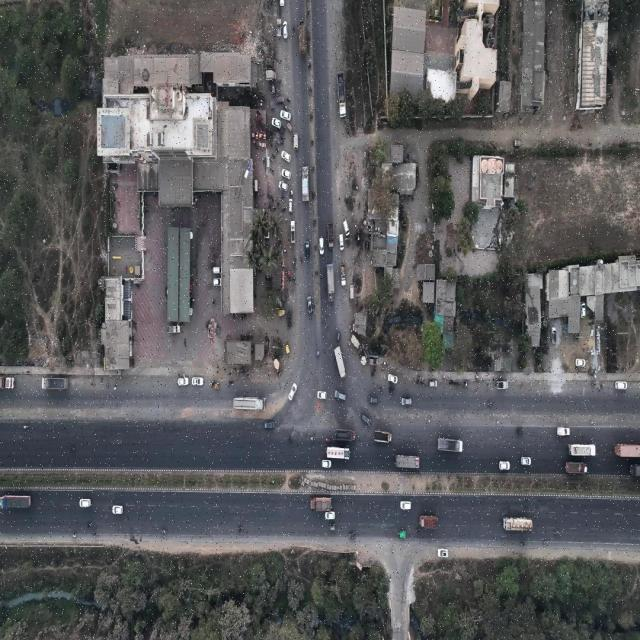3W: (336, 331, 341, 343), (287, 310, 293, 319), (348, 532, 355, 539), (279, 310, 286, 317), (286, 343, 290, 355), (286, 123, 292, 131), (329, 524, 335, 531), (517, 428, 524, 434), (389, 387, 395, 394), (288, 319, 292, 329)
Bus: (234, 397, 266, 411)
Cars: (288, 382, 297, 401), (280, 110, 291, 122), (361, 414, 371, 427), (281, 150, 291, 163), (335, 390, 346, 401), (437, 549, 449, 559), (178, 374, 188, 386), (307, 296, 313, 316), (281, 168, 291, 180), (557, 427, 570, 436), (343, 220, 350, 236), (112, 505, 123, 515), (499, 461, 510, 471), (388, 373, 398, 384), (80, 499, 92, 508), (192, 377, 204, 386), (616, 381, 628, 390), (319, 238, 325, 256), (401, 501, 411, 511), (279, 181, 288, 192), (580, 302, 586, 318), (325, 512, 335, 521), (322, 460, 332, 469), (576, 359, 586, 368), (521, 457, 531, 466), (368, 395, 378, 404), (305, 240, 310, 258), (272, 118, 281, 128), (294, 133, 299, 151), (264, 421, 275, 429), (283, 22, 288, 39), (339, 235, 344, 252), (318, 391, 327, 400), (401, 398, 412, 405), (552, 327, 556, 344), (289, 198, 293, 214), (275, 97, 284, 104), (429, 380, 437, 387), (213, 279, 221, 286), (214, 267, 221, 274), (350, 286, 353, 300)
LCV: (351, 335, 361, 350), (341, 265, 346, 287), (266, 70, 276, 81), (496, 381, 508, 390), (291, 221, 295, 243), (398, 530, 407, 539), (277, 18, 281, 38)
M2W: (160, 529, 166, 535), (292, 259, 296, 268), (23, 424, 30, 429), (519, 541, 525, 546), (288, 437, 294, 442), (292, 24, 295, 33), (238, 526, 243, 531), (554, 531, 559, 536), (71, 446, 76, 451), (310, 437, 316, 441), (277, 200, 280, 208), (271, 195, 274, 202), (543, 541, 548, 545), (488, 403, 493, 407), (378, 388, 383, 392), (269, 168, 274, 172), (269, 157, 273, 162), (282, 125, 286, 130), (269, 142, 273, 147), (287, 97, 291, 102), (317, 351, 320, 357), (294, 275, 296, 284), (93, 531, 97, 535), (88, 524, 92, 528), (72, 534, 76, 538), (416, 530, 420, 534), (326, 438, 330, 442), (282, 208, 286, 212), (281, 196, 285, 200), (272, 154, 276, 158), (284, 106, 288, 109)
MAV: (614, 443, 640, 456)
Truck: (0, 494, 31, 509), (337, 71, 346, 118), (503, 517, 533, 531), (334, 346, 346, 379), (438, 438, 463, 453), (42, 377, 68, 390), (568, 444, 596, 456), (395, 455, 420, 468), (327, 446, 350, 460), (310, 498, 332, 512), (327, 263, 334, 302), (299, 21, 307, 55), (334, 429, 356, 441), (566, 462, 588, 474), (302, 167, 309, 202), (374, 430, 392, 443), (420, 516, 437, 529), (328, 222, 334, 250)
